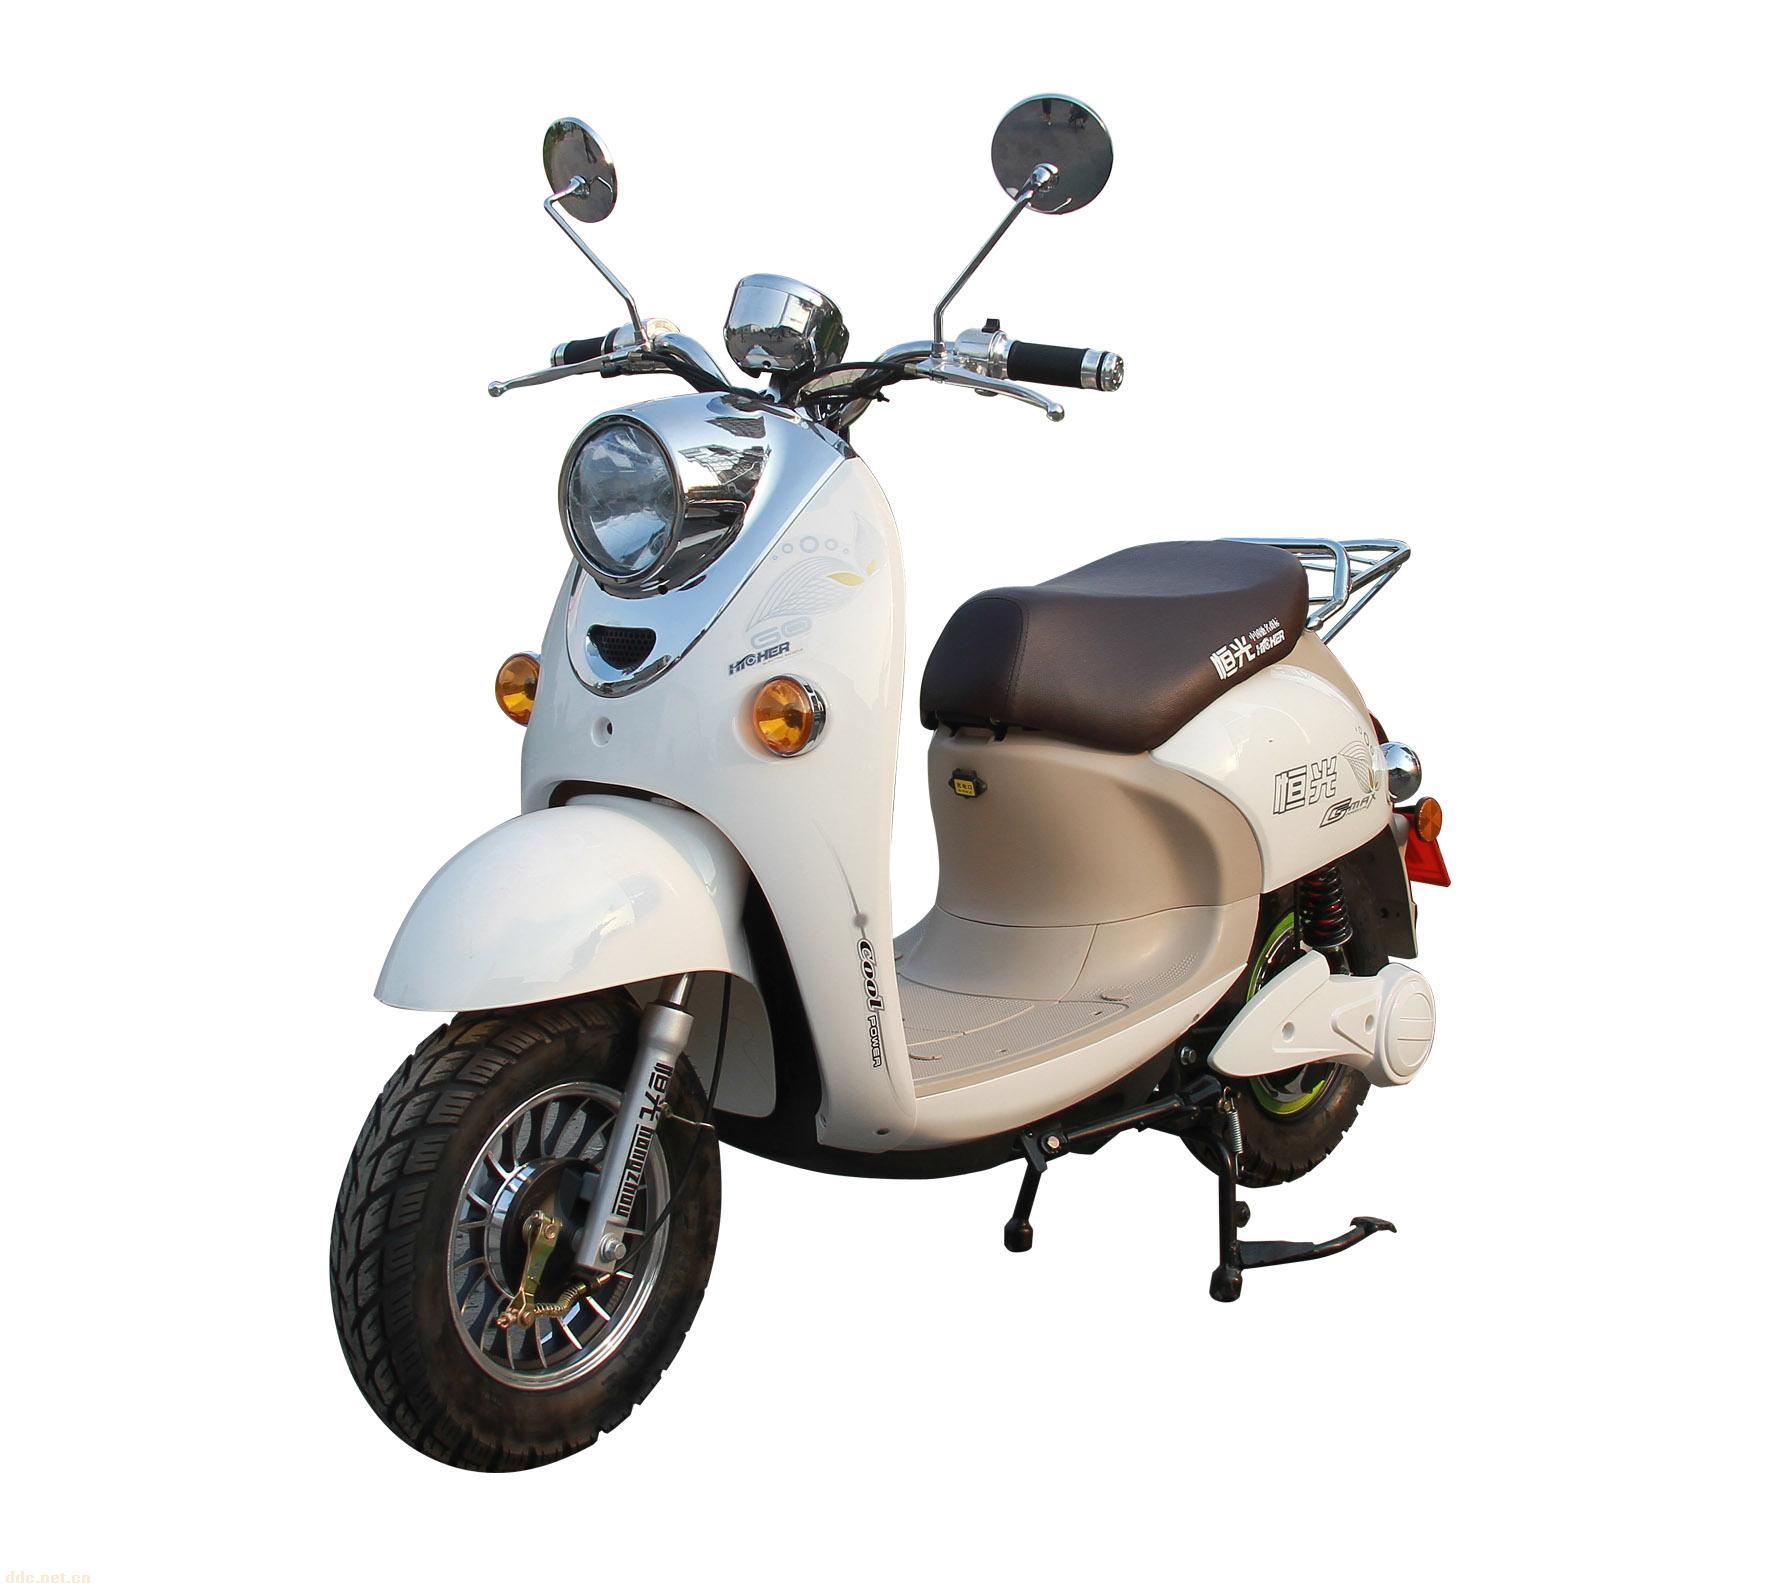MNV: (331, 93, 1441, 1468)
